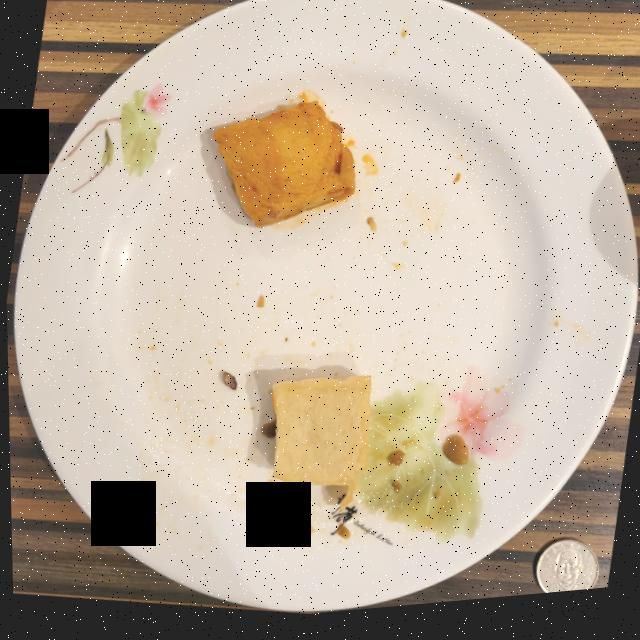coin: (532, 550, 595, 603)
creamy tofu: (212, 108, 353, 233)
creamy tofu -without sauce-: (269, 382, 369, 515)
